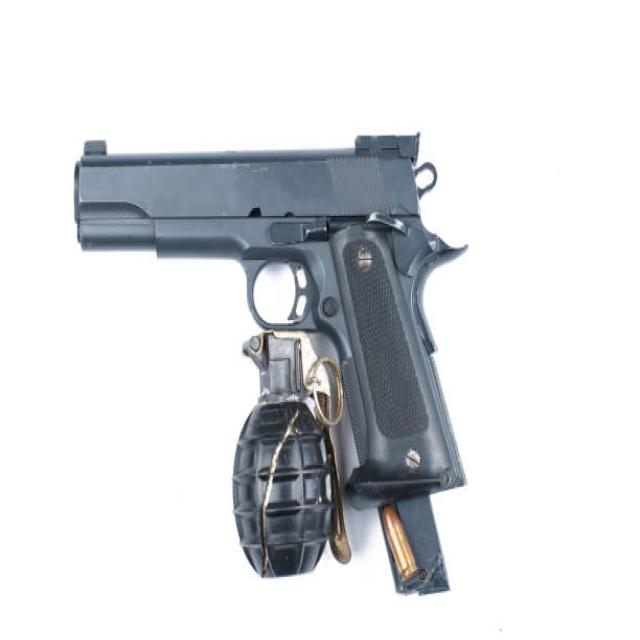grenade: (228, 332, 353, 586)
